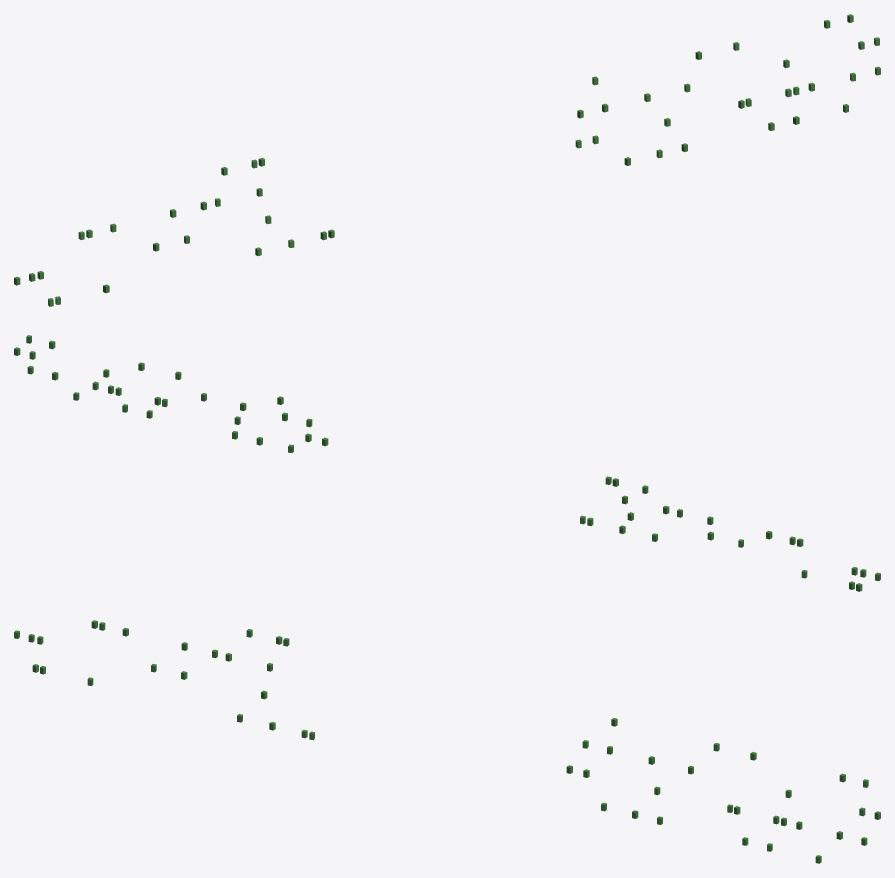
The model's file is CrowdFar_CrowdGreen.fbx.
The picture shows the model from 3 angles, top to bottom: view 1: azimuth 30°, elevation 25°; view 2: azimuth 150°, elevation 25°; view 3: azimuth 330°, elevation 25°; orthographic projection.
Parts seen in each view (by area): view 1: FanFar0.001; view 2: FanFar0.001; view 3: FanFar0.001.
Part boxes in pixels (x1=…): FanFar0.001: x1=14, y1=14, x2=880, y2=306; FanFar0.001: x1=14, y1=335, x2=880, y2=591; FanFar0.001: x1=14, y1=620, x2=880, y2=863.
Bounding box in the file's own units: 24321 × 1970 × 1176.
